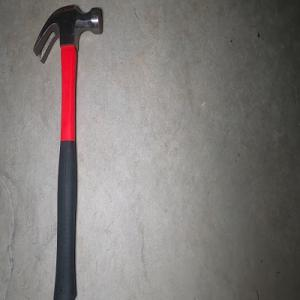Hammer: (32, 3, 103, 300)
